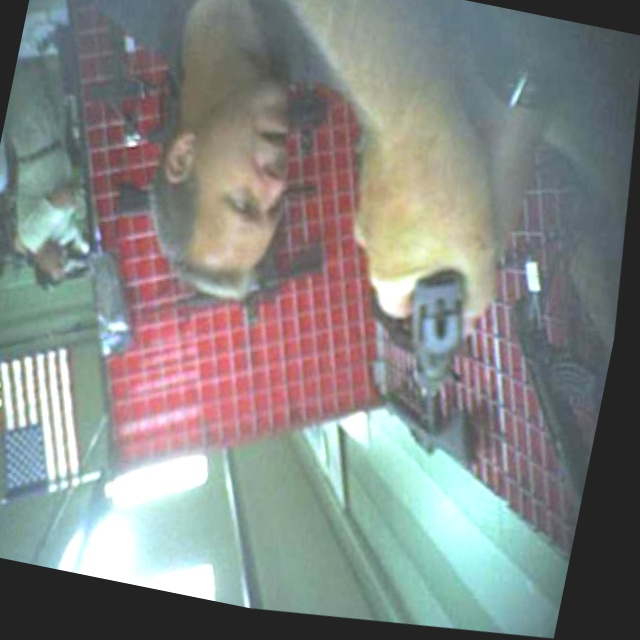gun: (371, 231, 498, 421)
